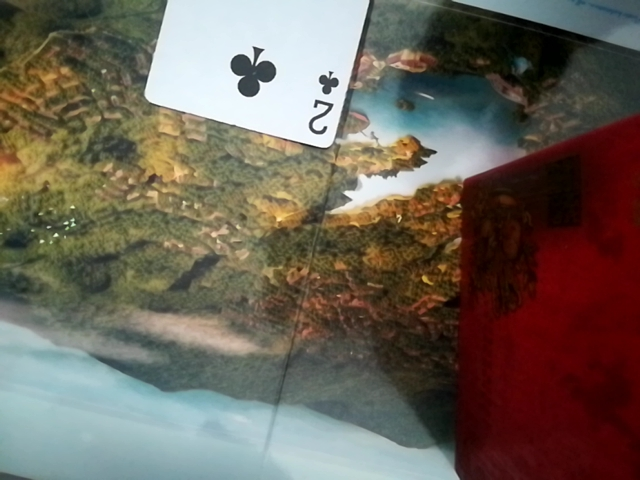mh 2: (138, 0, 377, 148)
